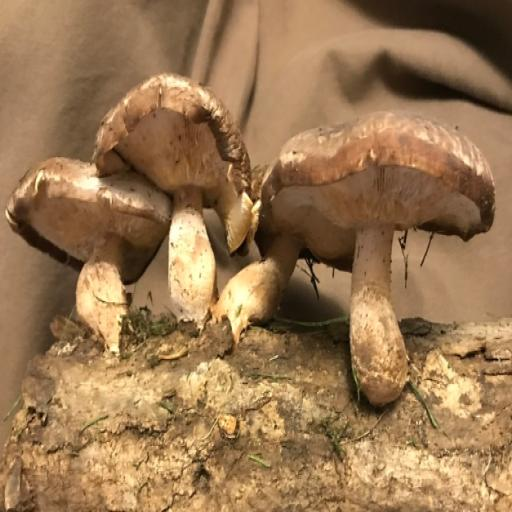Shiitake Mushroom: (202, 66, 512, 410), (63, 61, 313, 326), (0, 143, 178, 339)
